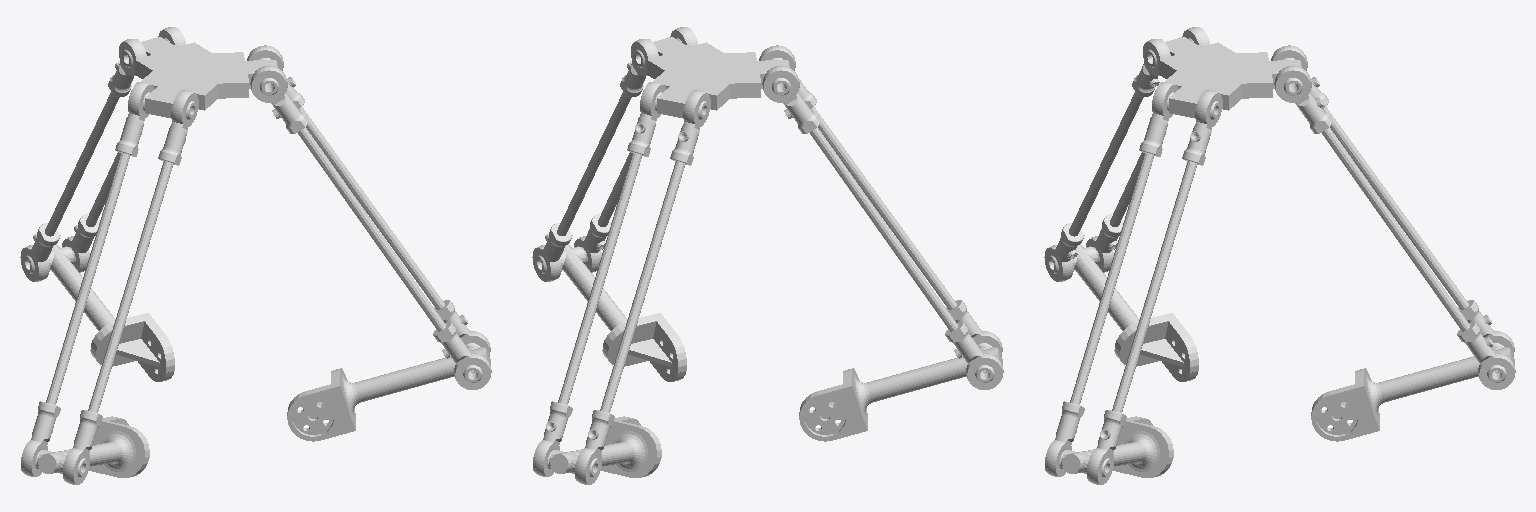
robot.urdf — doritos:
<?xml version="1.0" encoding="utf-8"?>
<!-- This URDF was automatically created by SolidWorks to URDF Exporter! Originally created by Stephen Brawner (brawner@gmail.com) 
     Commit Version: 1.6.0-4-g7f85cfe  Build Version: 1.6.7995.38578
     For more information, please see http://wiki.ros.org/sw_urdf_exporter -->
<robot
  name="doritos">
  <link
    name="base_link">
    <inertial>
      <origin
        xyz="6.0593521422625E-08 -8.42661840305681E-08 0.00790002884595331"
        rpy="0 0 0" />
      <mass
        value="0.309003513658323" />
      <inertia
        ixx="0.000766890381512675"
        ixy="5.58847532795526E-10"
        ixz="-9.65631091350701E-11"
        iyy="0.00076688894254315"
        iyz="4.50550456438557E-11"
        izz="0.00150930436863229" />
    </inertial>
    <visual>
      <origin
        xyz="0 0 0"
        rpy="0 0 0" />
      <geometry>
        <mesh
          filename="package://doritos/meshes/base_link.STL" />
      </geometry>
      <material
        name="">
        <color
          rgba="0.894117647058823 0.894117647058823 0.894117647058823 1" />
      </material>
    </visual>
    <collision>
      <origin
        xyz="0 0 0"
        rpy="0 0 0" />
      <geometry>
        <mesh
          filename="package://doritos/meshes/base_link.STL" />
      </geometry>
    </collision>
  </link>
  <link
    name="upper_1">
    <inertial>
      <origin
        xyz="0.0328480291045503 0.0100498824762653 -0.0106112302747938"
        rpy="0 0 0" />
      <mass
        value="0.0127656949358481" />
      <inertia
        ixx="1.51817726252573E-06"
        ixy="-2.21451762777781E-06"
        ixz="7.88172101588101E-07"
        iyy="8.08446105732852E-06"
        iyz="2.40968114022457E-07"
        izz="8.56469039127584E-06" />
    </inertial>
    <visual>
      <origin
        xyz="0 0 0"
        rpy="0 0 0" />
      <geometry>
        <mesh
          filename="package://doritos/meshes/upper_1.STL" />
      </geometry>
      <material
        name="">
        <color
          rgba="0.894117647058823 0.894117647058823 0.894117647058823 1" />
      </material>
    </visual>
    <collision>
      <origin
        xyz="0 0 0"
        rpy="0 0 0" />
      <geometry>
        <mesh
          filename="package://doritos/meshes/upper_1.STL" />
      </geometry>
    </collision>
  </link>
  <joint
    name="rev_1"
    type="continuous">
    <origin
      xyz="-0.055911 -0.017234 0.023"
      rpy="1.5708 0 -2.618" />
    <parent
      link="base_link" />
    <child
      link="upper_1" />
    <axis
      xyz="0 0 1" />
  </joint>
  <link
    name="right_1">
    <inertial>
      <origin
        xyz="-0.0489856869970038 0.0754472339163971 -0.00147226827610725"
        rpy="0 0 0" />
      <mass
        value="0.0071059183717293" />
      <inertia
        ixx="4.52843937662123E-06"
        ixy="2.8742404742972E-06"
        ixz="-5.47709609144849E-08"
        iyy="1.96053278777817E-06"
        iyz="8.84140744189264E-08"
        izz="6.43890262010603E-06" />
    </inertial>
    <visual>
      <origin
        xyz="0 0 0"
        rpy="0 0 0" />
      <geometry>
        <mesh
          filename="package://doritos/meshes/right_1.STL" />
      </geometry>
      <material
        name="">
        <color
          rgba="0.894117647058823 0.894117647058823 0.894117647058823 1" />
      </material>
    </visual>
    <collision>
      <origin
        xyz="0 0 0"
        rpy="0 0 0" />
      <geometry>
        <mesh
          filename="package://doritos/meshes/right_1.STL" />
      </geometry>
    </collision>
  </link>
  <joint
    name="r_sphere_1"
    type="continuous">
    <origin
      xyz="0.076673 0.022976 -0.0014997"
      rpy="0 0 0" />
    <parent
      link="upper_1" />
    <child
      link="right_1" />
    <axis
      xyz="0.70301 0.44508 -0.55468" />
  </joint>
  <link
    name="left_1">
    <inertial>
      <origin
        xyz="-0.0497145964961205 0.0749696941250675 -0.00143327539371696"
        rpy="0 0 0" />
      <mass
        value="0.00710591828992989" />
      <inertia
        ixx="4.47248938676549E-06"
        ixy="2.89861618867103E-06"
        ixz="-5.41006373436835E-08"
        iyy="2.01639449974615E-06"
        iyz="8.55918743003149E-08"
        izz="6.43899086676786E-06" />
    </inertial>
    <visual>
      <origin
        xyz="0 0 0"
        rpy="0 0 0" />
      <geometry>
        <mesh
          filename="package://doritos/meshes/left_1.STL" />
      </geometry>
      <material
        name="">
        <color
          rgba="0.894117647058823 0.894117647058823 0.894117647058823 1" />
      </material>
    </visual>
    <collision>
      <origin
        xyz="0 0 0"
        rpy="0 0 0" />
      <geometry>
        <mesh
          filename="package://doritos/meshes/left_1.STL" />
      </geometry>
    </collision>
  </link>
  <joint
    name="l_sphere_1"
    type="continuous">
    <origin
      xyz="0.076239 0.02393 -0.0245"
      rpy="0 0 0" />
    <parent
      link="upper_1" />
    <child
      link="left_1" />
    <axis
      xyz="0.69841 0.45198 -0.55492" />
  </joint>
  <link
    name="upper_2">
    <inertial>
      <origin
        xyz="-0.0328480230649131 -0.010049880625121 -0.0106112366574054"
        rpy="0 0 0" />
      <mass
        value="0.0127656950984725" />
      <inertia
        ixx="1.51817641370884E-06"
        ixy="-2.21451547331946E-06"
        ixz="-7.88175293047432E-07"
        iyy="8.08445755585885E-06"
        iyz="-2.40969103695848E-07"
        izz="8.5646858275893E-06" />
    </inertial>
    <visual>
      <origin
        xyz="0 0 0"
        rpy="0 0 0" />
      <geometry>
        <mesh
          filename="package://doritos/meshes/upper_2.STL" />
      </geometry>
      <material
        name="">
        <color
          rgba="0.894117647058823 0.894117647058823 0.894117647058823 1" />
      </material>
    </visual>
    <collision>
      <origin
        xyz="0 0 0"
        rpy="0 0 0" />
      <geometry>
        <mesh
          filename="package://doritos/meshes/upper_2.STL" />
      </geometry>
    </collision>
  </link>
  <joint
    name="rev_2"
    type="continuous">
    <origin
      xyz="0.042881 -0.039803 0.023"
      rpy="-1.5708 0 2.618" />
    <parent
      link="base_link" />
    <child
      link="upper_2" />
    <axis
      xyz="0 0 1" />
  </joint>
  <link
    name="right_2">
    <inertial>
      <origin
        xyz="0.0489857125435977 -0.0754472201599349 -0.00147225833459808"
        rpy="0 0 0" />
      <mass
        value="0.00710592124076721" />
      <inertia
        ixx="4.52843767130364E-06"
        ixy="2.87424135280491E-06"
        ixz="5.47714974777083E-08"
        iyy="1.96053475117648E-06"
        iyz="-8.84148469041546E-08"
        izz="6.43890278411291E-06" />
    </inertial>
    <visual>
      <origin
        xyz="0 0 0"
        rpy="0 0 0" />
      <geometry>
        <mesh
          filename="package://doritos/meshes/right_2.STL" />
      </geometry>
      <material
        name="">
        <color
          rgba="0.894117647058823 0.894117647058823 0.894117647058823 1" />
      </material>
    </visual>
    <collision>
      <origin
        xyz="0 0 0"
        rpy="0 0 0" />
      <geometry>
        <mesh
          filename="package://doritos/meshes/right_2.STL" />
      </geometry>
    </collision>
  </link>
  <joint
    name="r_sphere_2"
    type="continuous">
    <origin
      xyz="-0.076673 -0.022976 -0.0014997"
      rpy="0 0 0" />
    <parent
      link="upper_2" />
    <child
      link="right_2" />
    <axis
      xyz="0.33467 0.23487 -0.9126" />
  </joint>
  <link
    name="left_2">
    <inertial>
      <origin
        xyz="0.0496354836544772 -0.0750220163559944 -0.00143751752650134"
        rpy="0 0 0" />
      <mass
        value="0.00710591746831051" />
      <inertia
        ixx="4.47248739864575E-06"
        ixy="2.89861699977625E-06"
        ixz="5.41002903515971E-08"
        iyy="2.01639646780455E-06"
        iyz="-8.55912883851399E-08"
        izz="6.4389908204482E-06" />
    </inertial>
    <visual>
      <origin
        xyz="0 0 0"
        rpy="0 0 0" />
      <geometry>
        <mesh
          filename="package://doritos/meshes/left_2.STL" />
      </geometry>
      <material
        name="">
        <color
          rgba="0.894117647058823 0.894117647058823 0.894117647058823 1" />
      </material>
    </visual>
    <collision>
      <origin
        xyz="0 0 0"
        rpy="0 0 0" />
      <geometry>
        <mesh
          filename="package://doritos/meshes/left_2.STL" />
      </geometry>
    </collision>
  </link>
  <joint
    name="l_sphere_2"
    type="continuous">
    <origin
      xyz="-0.076239 -0.02393 -0.0245"
      rpy="0 0 0" />
    <parent
      link="upper_2" />
    <child
      link="left_2" />
    <axis
      xyz="0.33223 0.23753 -0.9128" />
  </joint>
  <link
    name="upper_3">
    <inertial>
      <origin
        xyz="0.0328480258041284 0.0100498874223419 -0.0106112431583106"
        rpy="0 0 0" />
      <mass
        value="0.0127656949799107" />
      <inertia
        ixx="1.51817820273561E-06"
        ixy="-2.21451837116928E-06"
        ixz="7.88178881590604E-07"
        iyy="8.08445954395139E-06"
        iyz="2.40970481916451E-07"
        izz="8.56468907992422E-06" />
    </inertial>
    <visual>
      <origin
        xyz="0 0 0"
        rpy="0 0 0" />
      <geometry>
        <mesh
          filename="package://doritos/meshes/upper_3.STL" />
      </geometry>
      <material
        name="">
        <color
          rgba="0.894117647058823 0.894117647058823 0.894117647058823 1" />
      </material>
    </visual>
    <collision>
      <origin
        xyz="0 0 0"
        rpy="0 0 0" />
      <geometry>
        <mesh
          filename="package://doritos/meshes/upper_3.STL" />
      </geometry>
    </collision>
  </link>
  <joint
    name="rev_3"
    type="continuous">
    <origin
      xyz="0.01303 0.057037 0.023"
      rpy="1.5708 0 1.5708" />
    <parent
      link="base_link" />
    <child
      link="upper_3" />
    <axis
      xyz="0 0 1" />
  </joint>
  <link
    name="right_3">
    <inertial>
      <origin
        xyz="-0.0489060879529677 0.07549877693586 -0.00147651668624893"
        rpy="0 0 0" />
      <mass
        value="0.00710591836640399" />
      <inertia
        ixx="4.52843614777301E-06"
        ixy="2.87424206289566E-06"
        ixz="-5.47711375827628E-08"
        iyy="1.96053606999219E-06"
        iyz="8.84142014191114E-08"
        izz="6.43890267616684E-06" />
    </inertial>
    <visual>
      <origin
        xyz="0 0 0"
        rpy="0 0 0" />
      <geometry>
        <mesh
          filename="package://doritos/meshes/right_3.STL" />
      </geometry>
      <material
        name="">
        <color
          rgba="0.894117647058823 0.894117647058823 0.894117647058823 1" />
      </material>
    </visual>
    <collision>
      <origin
        xyz="0 0 0"
        rpy="0 0 0" />
      <geometry>
        <mesh
          filename="package://doritos/meshes/right_3.STL" />
      </geometry>
    </collision>
  </link>
  <joint
    name="r_sphere_3"
    type="continuous">
    <origin
      xyz="0.076673 0.022976 -0.0014997"
      rpy="0 0 0" />
    <parent
      link="upper_3" />
    <child
      link="right_3" />
    <axis
      xyz="0.79662 0.52256 0.30386" />
  </joint>
  <link
    name="left_3">
    <inertial>
      <origin
        xyz="-0.0496354937123868 0.075022010670718 -0.00143753924664602"
        rpy="0 0 0" />
      <mass
        value="0.00710591839982534" />
      <inertia
        ixx="4.47248671711069E-06"
        ixy="2.89861748166093E-06"
        ixz="-5.41008260623705E-08"
        iyy="2.01639723758302E-06"
        iyz="8.5592037390335E-08"
        izz="6.43899093516694E-06" />
    </inertial>
    <visual>
      <origin
        xyz="0 0 0"
        rpy="0 0 0" />
      <geometry>
        <mesh
          filename="package://doritos/meshes/left_3.STL" />
      </geometry>
      <material
        name="">
        <color
          rgba="0.894117647058823 0.894117647058823 0.894117647058823 1" />
      </material>
    </visual>
    <collision>
      <origin
        xyz="0 0 0"
        rpy="0 0 0" />
      <geometry>
        <mesh
          filename="package://doritos/meshes/left_3.STL" />
      </geometry>
    </collision>
  </link>
  <joint
    name="l_sphere_3"
    type="continuous">
    <origin
      xyz="0.076239 0.02393 -0.0245"
      rpy="0 0 0" />
    <parent
      link="upper_3" />
    <child
      link="left_3" />
    <axis
      xyz="0.79147 0.53007 0.3043" />
  </joint>
  <link
    name="ee_link">
    <inertial>
      <origin
        xyz="-6.33763264090703E-10 7.25181692473598E-10 -0.00399999964634512"
        rpy="0 0 0" />
      <mass
        value="0.0239359502125054" />
      <inertia
        ixx="5.35032571481648E-06"
        ixy="-1.04789467694869E-14"
        ixz="7.98334923773091E-14"
        iyy="5.35032547444472E-06"
        iyz="2.66805366146786E-13"
        izz="1.04214183418151E-05" />
    </inertial>
    <visual>
      <origin
        xyz="0 0 0"
        rpy="0 0 0" />
      <geometry>
        <mesh
          filename="package://doritos/meshes/ee_link.STL" />
      </geometry>
      <material
        name="">
        <color
          rgba="0.894117647058823 0.894117647058823 0.894117647058823 1" />
      </material>
    </visual>
    <collision>
      <origin
        xyz="0 0 0"
        rpy="0 0 0" />
      <geometry>
        <mesh
          filename="package://doritos/meshes/ee_link.STL" />
      </geometry>
    </collision>
  </link>
  <joint
    name="base"
    type="fixed">
    <origin
      xyz="-0.13328 0.15398 0.01147"
      rpy="-1.5708 0.91301 0" />
    <parent
      link="left_3" />
    <child
      link="ee_link" />
    <axis
      xyz="0 0 0" />
  </joint>
</robot>

--- Render facts (derived) ---
3 views of the same robot in one strip: view 1: azimuth 30°, elevation 25°; view 2: azimuth 150°, elevation 25°; view 3: azimuth 270°, elevation 25° (orthographic).
Model doritos with 11 links and 10 joints (9 continuous, 1 fixed), rooted at base_link, posed all joints at 0.
Visible links, largest first — view 1: ee_link, upper_2, right_2, left_1, right_1, upper_3, left_2, left_3, upper_1, right_3; view 2: ee_link, upper_1, right_1, left_3, right_3, upper_2, left_1, left_2, upper_3, right_2; view 3: ee_link, upper_3, right_3, left_2, right_2, upper_1, left_3, left_1, upper_2, right_1.
Boxes of the visible links, x1,y1,x2,y2 form: ee_link: [122, 37, 278, 119]; upper_2: [287, 343, 490, 441]; right_2: [250, 66, 491, 389]; left_1: [63, 90, 198, 484]; right_1: [21, 82, 154, 476]; upper_3: [24, 244, 174, 381]; left_2: [247, 45, 490, 355]; left_3: [20, 39, 146, 281]; upper_1: [35, 416, 149, 477]; right_3: [62, 27, 185, 272]; ee_link: [634, 37, 790, 119]; upper_1: [799, 343, 1002, 441]; right_1: [762, 66, 1003, 389]; left_3: [575, 90, 710, 484]; right_3: [533, 82, 666, 476]; upper_2: [536, 244, 686, 381]; left_1: [759, 45, 1002, 355]; left_2: [532, 39, 658, 281]; upper_3: [547, 416, 661, 477]; right_2: [574, 27, 697, 272]; ee_link: [1146, 37, 1302, 119]; upper_3: [1311, 343, 1514, 441]; right_3: [1274, 66, 1515, 389]; left_2: [1087, 90, 1222, 484]; right_2: [1045, 82, 1178, 476]; upper_1: [1048, 244, 1198, 381]; left_3: [1271, 45, 1514, 355]; left_1: [1044, 39, 1170, 281]; upper_2: [1059, 416, 1173, 477]; right_1: [1086, 27, 1209, 272].
Bounding box of the posed robot: 0.2604 × 0.2263 × 0.1954 m (x, y, z).
10 mesh visuals loaded from 11 distinct referenced files (10 binary STL); not drawn: 1 (reference not matched to a file when rendering).
